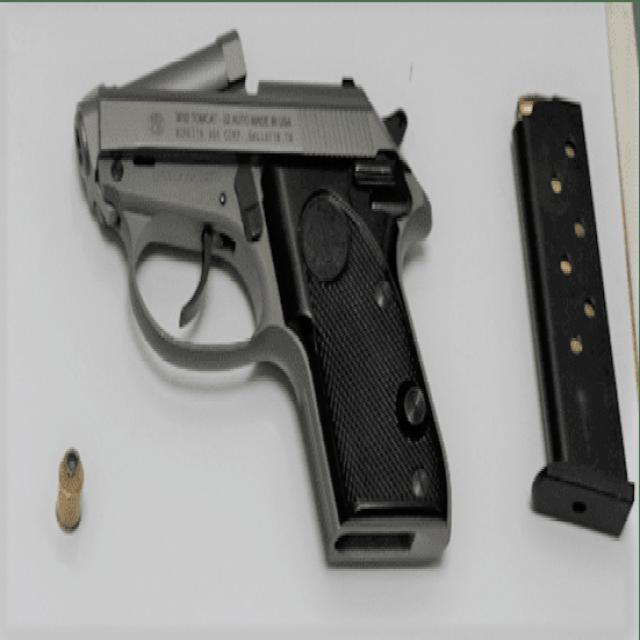HandGun: (77, 31, 452, 569)
